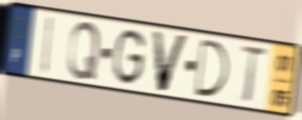D: (193, 36, 231, 99)
G: (111, 27, 148, 88)
I: (40, 14, 55, 76)
Q: (66, 20, 102, 82)
T: (238, 43, 269, 106)
V: (150, 28, 191, 95)
